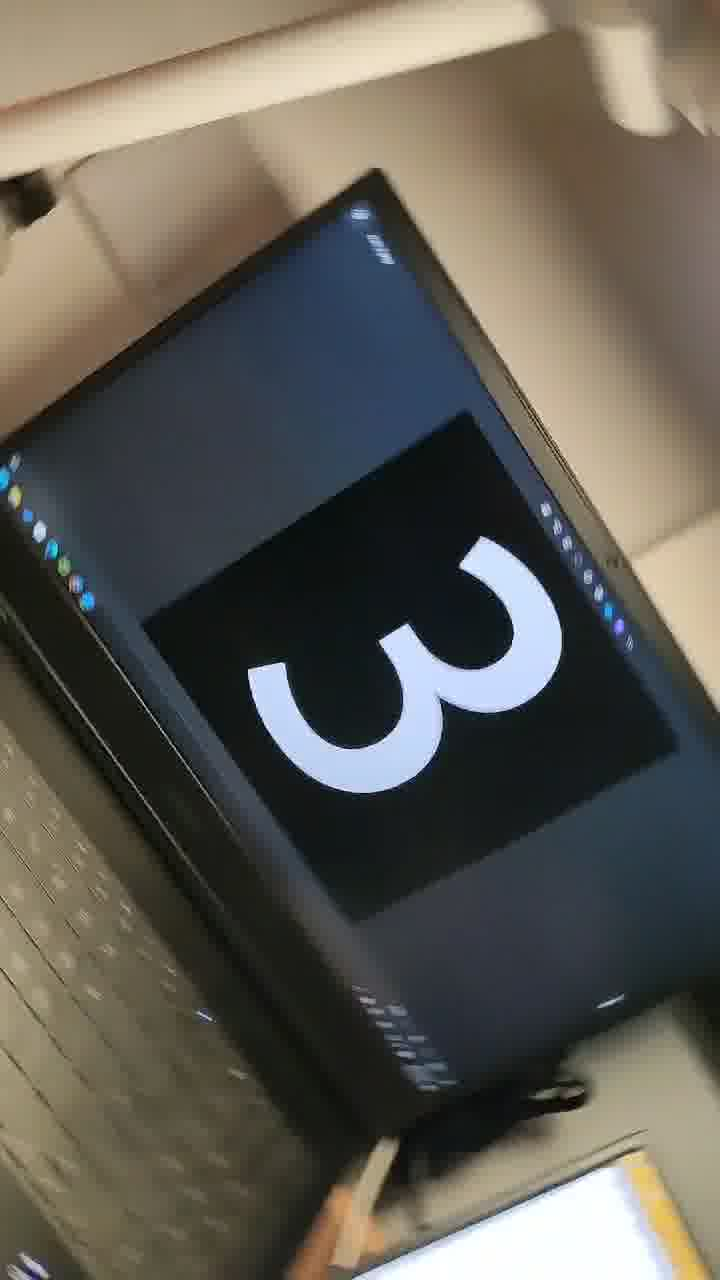three: (212, 439, 586, 900)
